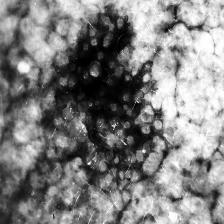Benign Marking or Mole: (47, 22, 187, 204)
